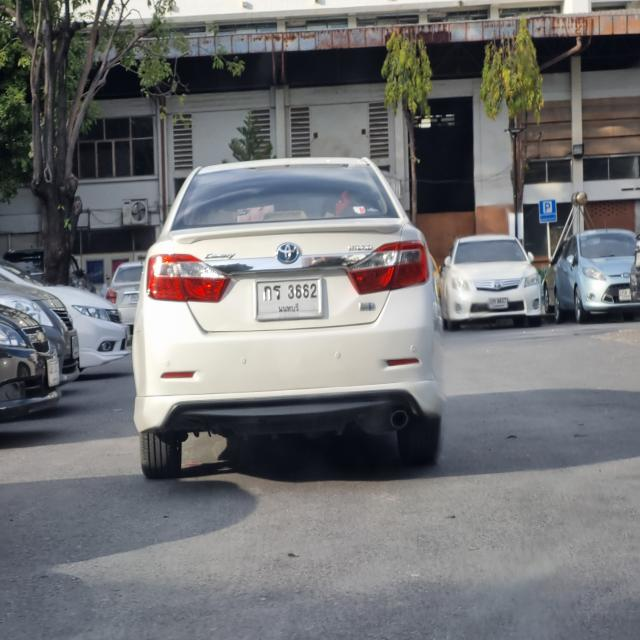license_plate: (253, 277, 322, 322), (44, 354, 60, 391), (486, 295, 510, 311), (618, 286, 633, 303), (72, 331, 80, 356), (123, 327, 131, 342)
